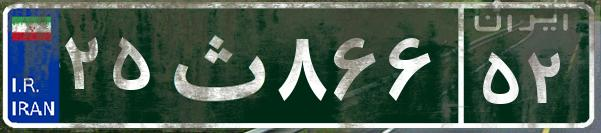2: (57, 26, 110, 107), (525, 38, 570, 115)
5: (475, 38, 525, 113), (110, 28, 158, 105)
6: (385, 28, 445, 110), (330, 28, 385, 110)
8: (273, 28, 330, 110)
ث: (158, 15, 273, 115)
